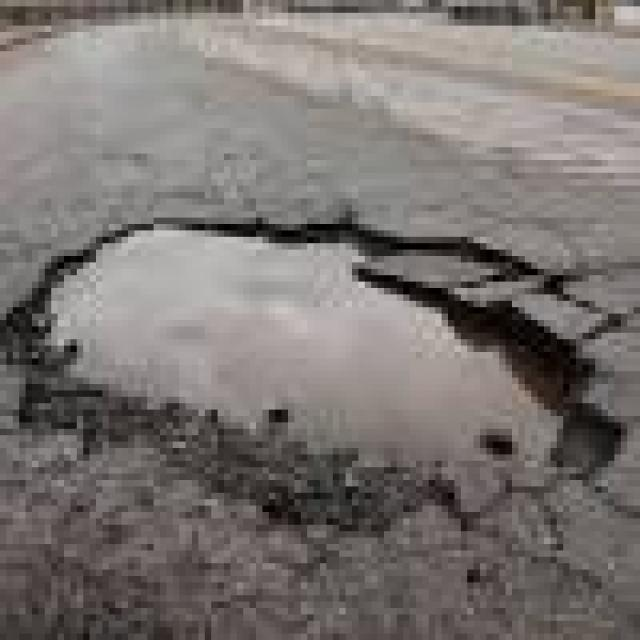Pothole: (0, 198, 589, 531)
